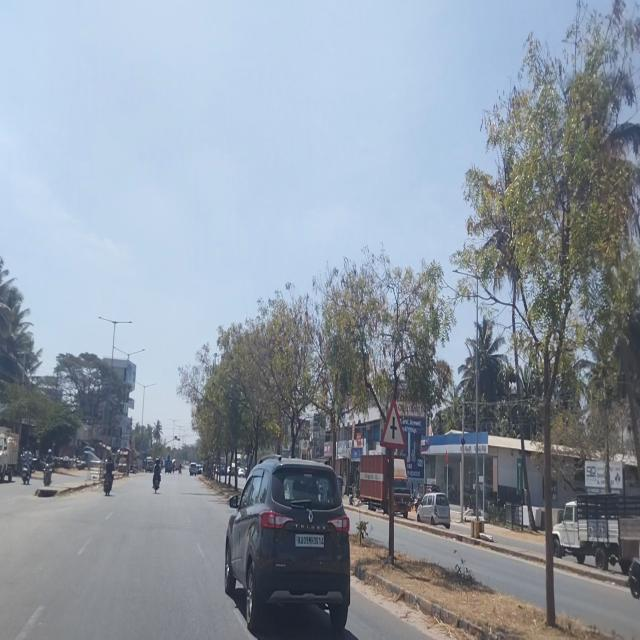bien_cam: (380, 397, 407, 448)
